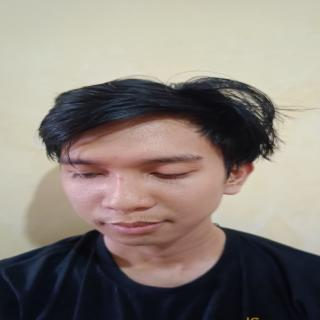Sedih: (57, 112, 239, 249)
